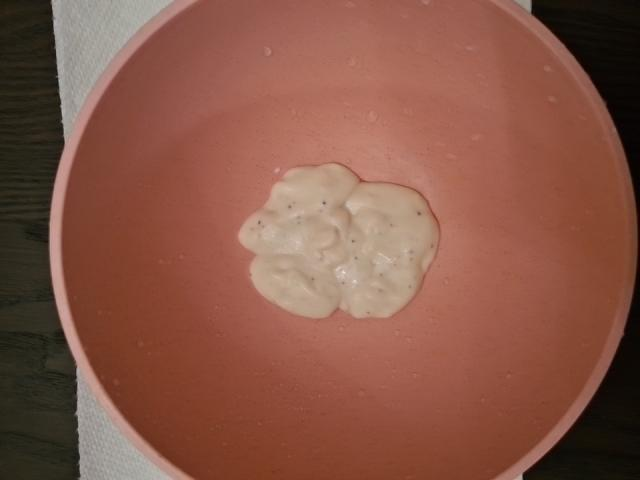kichen waste: (238, 163, 441, 318)
